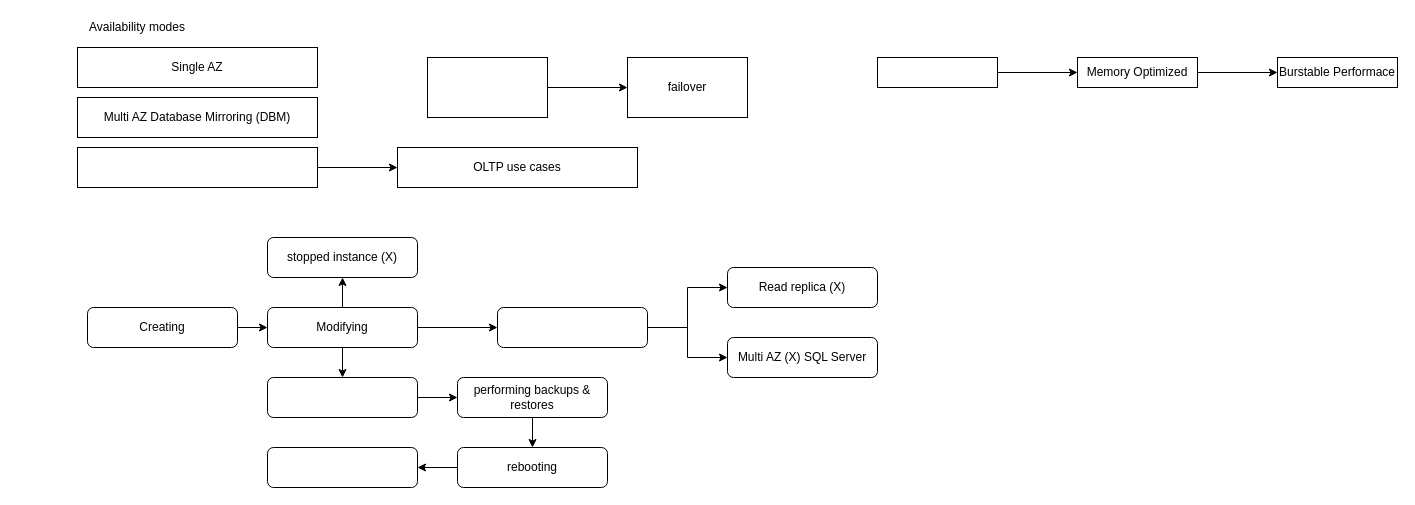
Some shapes in this 1415 by 505 pixel diagram are drawn without their labels. The shapes that lost their labels are listed below. From the top down, each one's centre as x and y in pixels, then its label:
(487,87): events
(937,72): Standard
(197,167): Multi-AZ Availability Groups
(572,327): Stoping
(342,397): Mantaining and Upgrading
(342,467): Deleting
